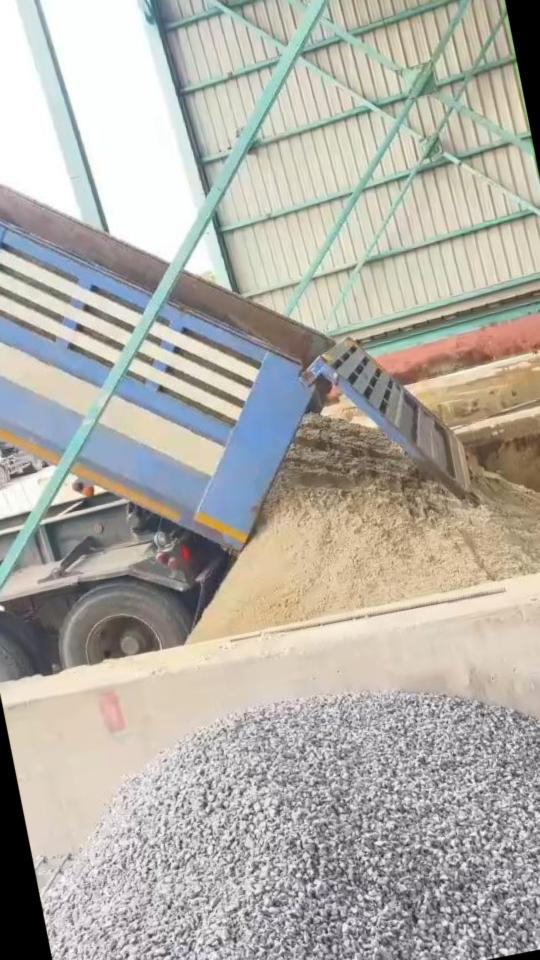gravel: (44, 693, 540, 960)
sand: (190, 416, 540, 639)
